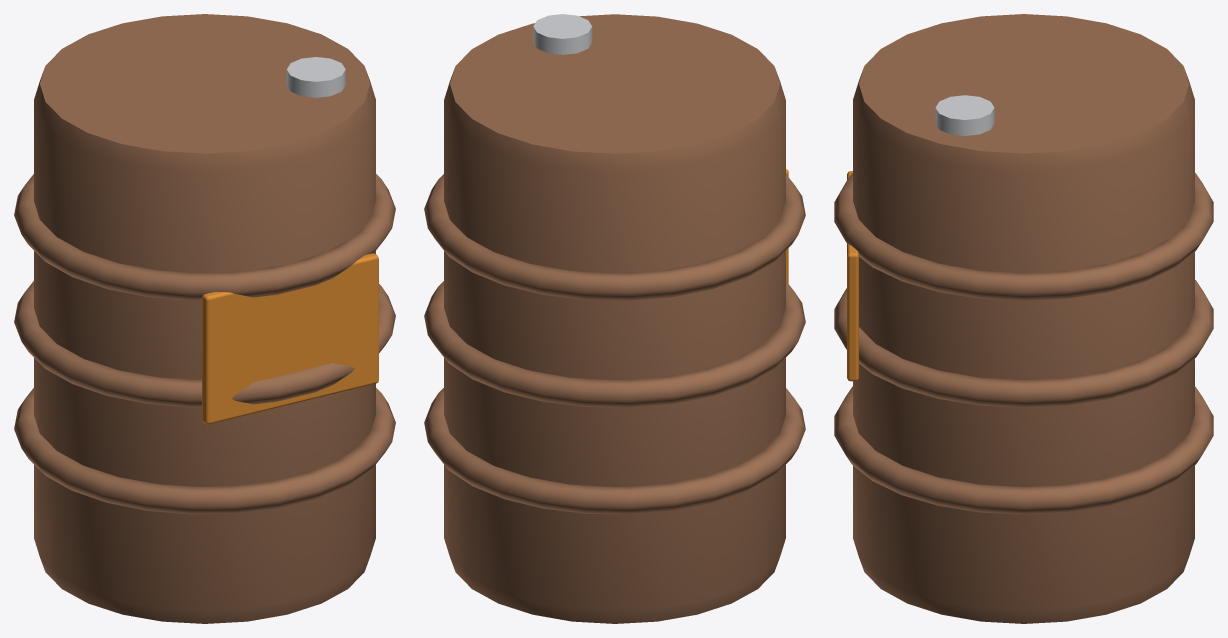
The model's file is battle-royale-town-and-airfield-oil-drum-705c533c__28265.glb.
3 renders of one model, left to right at view 1: azimuth 30°, elevation 25°; view 2: azimuth 150°, elevation 25°; view 3: azimuth 270°, elevation 25°, orthographic.
Parts seen in each view (by area): view 1: oil-drum; view 2: oil-drum; view 3: oil-drum.
Part boxes in pixels (x1,y1,x2,y2): oil-drum: (14,14,395,623); oil-drum: (424,14,805,623); oil-drum: (834,14,1213,623).
Bounding box in the file's own units: 0.648 × 0.91 × 0.6433.
